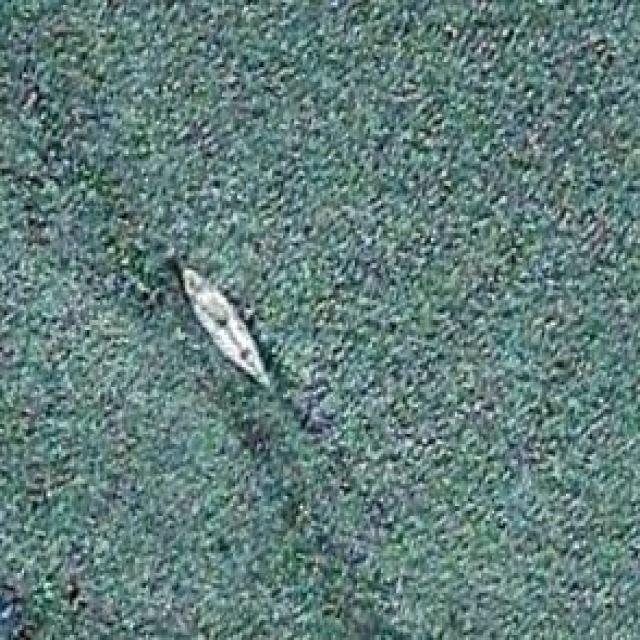ship: (178, 266, 274, 390)
